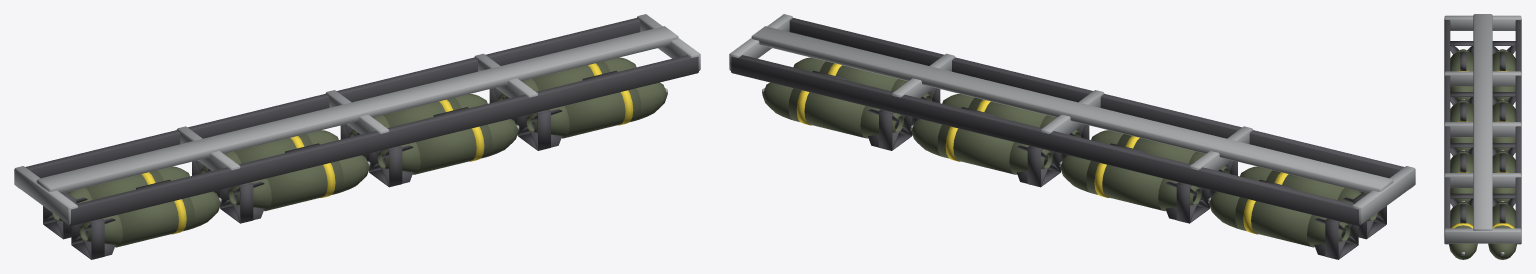
Rendered from bombs_evo_bay.glb.
The picture shows the model from 3 angles, left to right: view 1: azimuth 30°, elevation 25°; view 2: azimuth 150°, elevation 25°; view 3: azimuth 270°, elevation 25°; orthographic projection. The views are drawn at different scales.
Parts seen in each view (by area): view 1: bombs_evo_bay; view 2: bombs_evo_bay; view 3: bombs_evo_bay.
Part boxes in pixels (x1=…): bombs_evo_bay: x1=14, y1=14, x2=700, y2=259; bombs_evo_bay: x1=729, y1=14, x2=1415, y2=259; bombs_evo_bay: x1=1444, y1=14, x2=1521, y2=259.
Bounding box in the file's own units: 1.87 × 0.1866 × 0.282.
